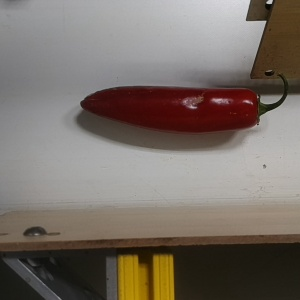Cut Point: (240, 87, 270, 129)
